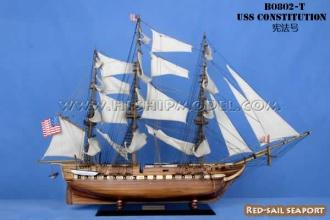fanchuan: (38, 15, 295, 214)
